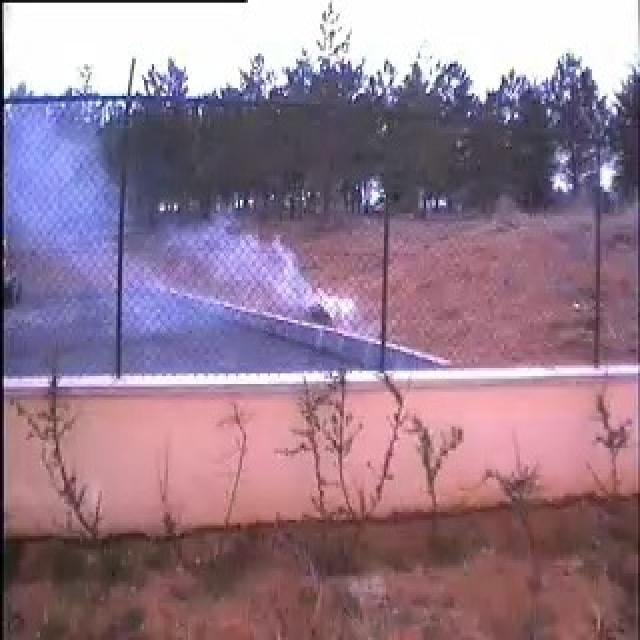smoke: (54, 105, 360, 329)
